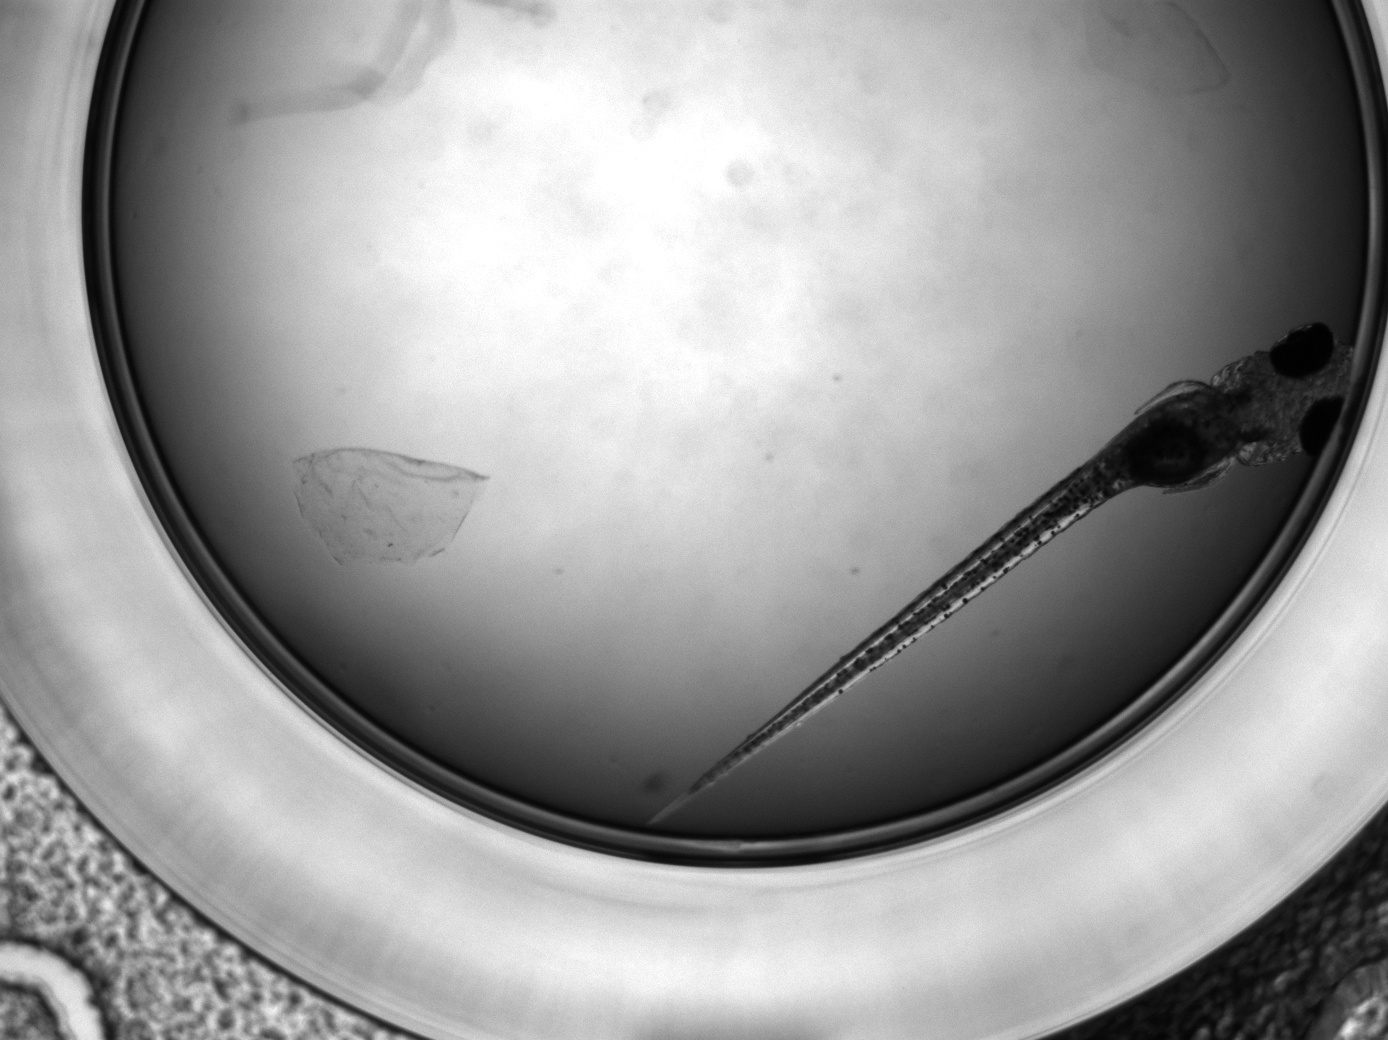debris: (289, 447, 493, 580)
embryo: (645, 323, 1362, 829)
eye: (1269, 323, 1336, 379), (1300, 393, 1347, 458)
yolksac: (1115, 388, 1237, 494)
